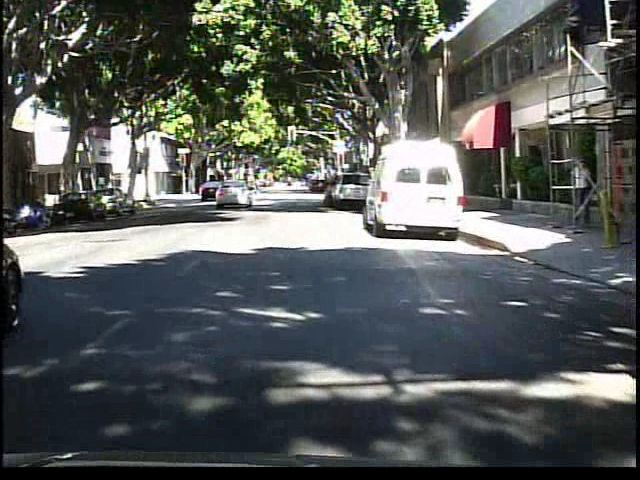person: (563, 155, 591, 233), (246, 175, 262, 205)
